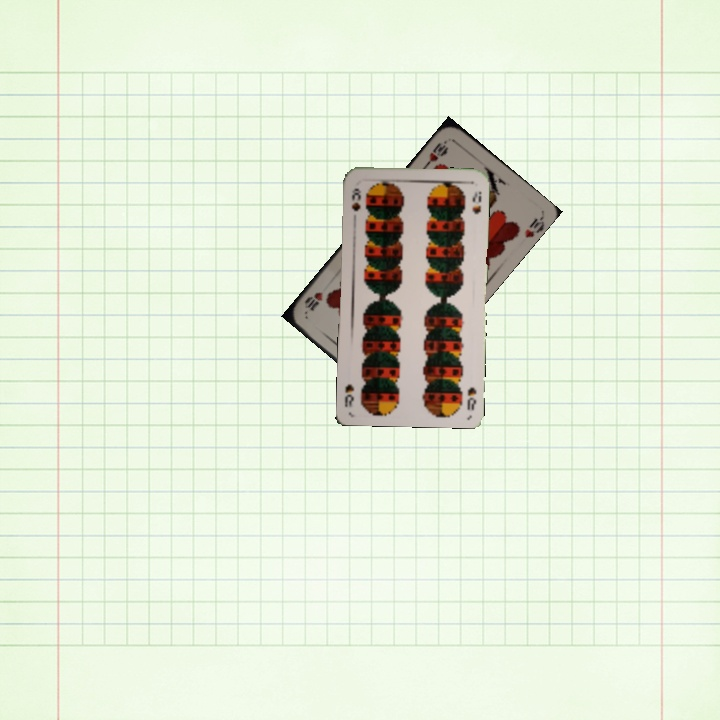H10: (421, 136, 451, 170)
S8: (463, 383, 479, 412), (348, 184, 363, 213)
